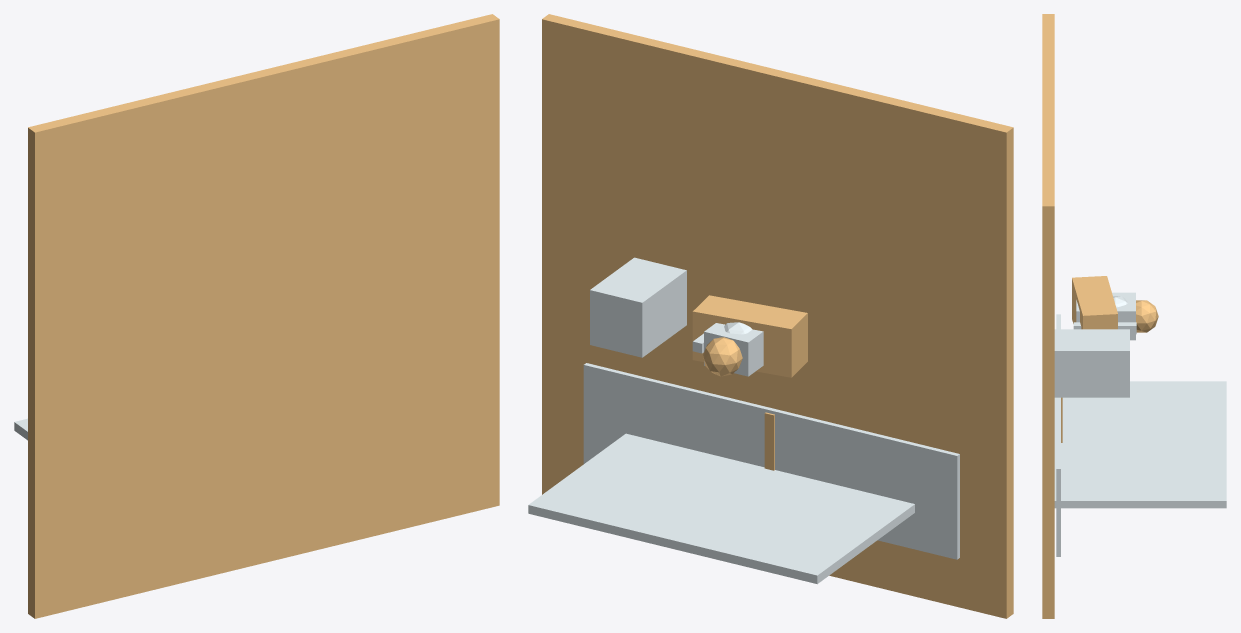
The model's file is mini-golf-tour-kit.glb.
3 renders of one model, left to right at view 1: azimuth 30°, elevation 25°; view 2: azimuth 150°, elevation 25°; view 3: azimuth 270°, elevation 25°, orthographic. The views are drawn at different scales.
Parts seen in each view (by area): view 1: ENVIRONMENT_GROUND; view 2: ENVIRONMENT_GROUND, ENVIRONMENT_GATE, PROFILE_ENVIRONMENT_DETAIL, PROFILE_OBSTACLE_DETAIL, PLAYER_BODY, PROFILE_PLAYER_DETAIL, PROFILE_PLAYER_HEAD; view 3: ENVIRONMENT_GATE, ENVIRONMENT_GROUND, PROFILE_OBSTACLE_DETAIL, PLAYER_BODY, PROFILE_ENVIRONMENT_DETAIL, PROFILE_PLAYER_DETAIL, PROFILE_PLAYER_HEAD.
Boxes of the visible parts, x1=… form: ENVIRONMENT_GROUND: x1=28, y1=14, x2=499, y2=618; ENVIRONMENT_GROUND: x1=542, y1=14, x2=1013, y2=618; ENVIRONMENT_GATE: x1=528, y1=433, x2=914, y2=584; PROFILE_ENVIRONMENT_DETAIL: x1=583, y1=363, x2=959, y2=559; PROFILE_OBSTACLE_DETAIL: x1=590, y1=257, x2=686, y2=357; PLAYER_BODY: x1=692, y1=295, x2=807, y2=377; PROFILE_PLAYER_DETAIL: x1=704, y1=323, x2=763, y2=376; PROFILE_PLAYER_HEAD: x1=703, y1=337, x2=742, y2=376; ENVIRONMENT_GATE: x1=1054, y1=381, x2=1226, y2=508; ENVIRONMENT_GROUND: x1=1042, y1=14, x2=1054, y2=618; PROFILE_OBSTACLE_DETAIL: x1=1054, y1=329, x2=1129, y2=397; PLAYER_BODY: x1=1072, y1=276, x2=1117, y2=329; PROFILE_ENVIRONMENT_DETAIL: x1=1056, y1=314, x2=1060, y2=556; PROFILE_PLAYER_DETAIL: x1=1076, y1=292, x2=1135, y2=340; PROFILE_PLAYER_HEAD: x1=1136, y1=300, x2=1158, y2=332.
Size of what is drawn, in the model's own units: 9 by 9 by 3.64.
